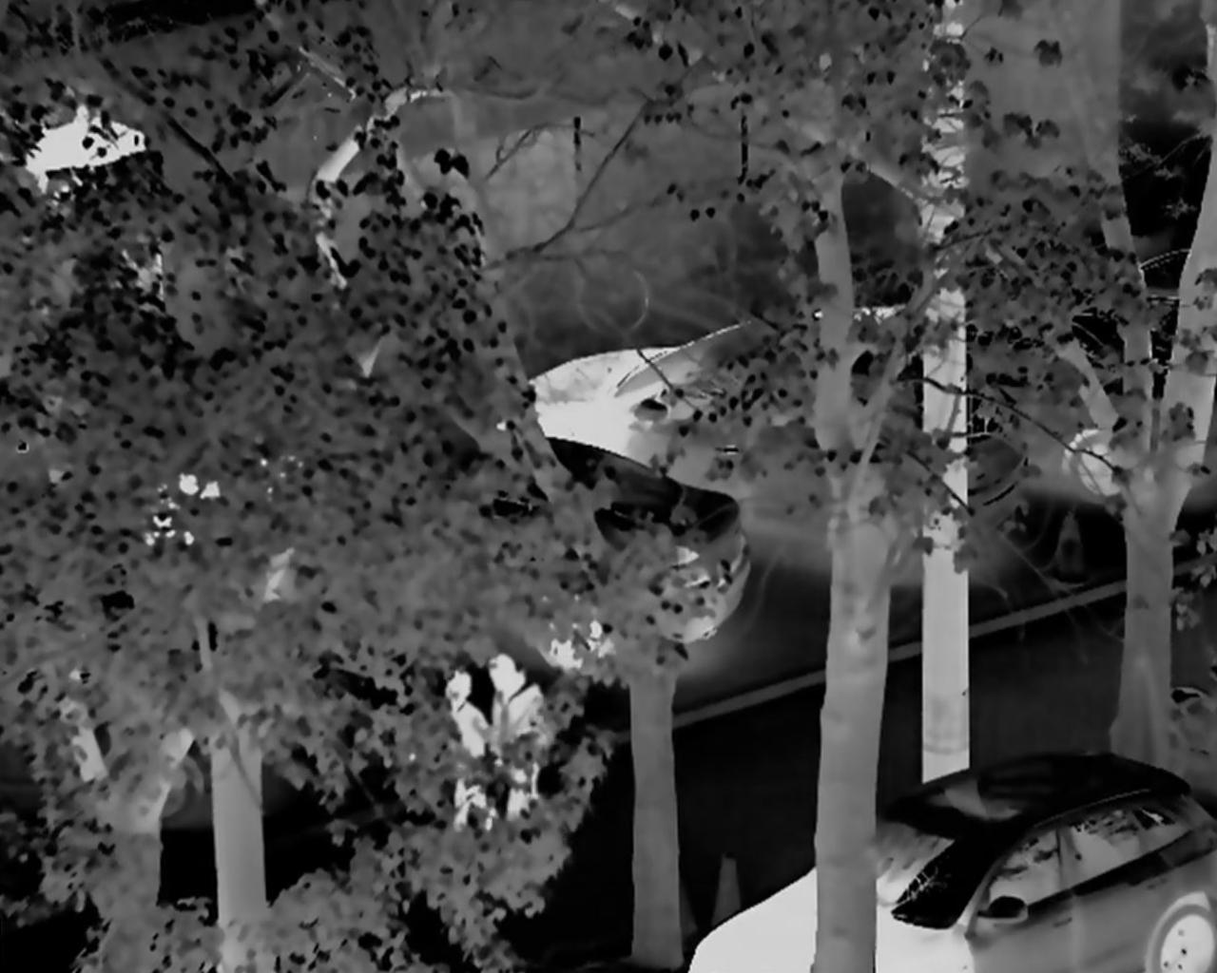person: (489, 651, 549, 865), (434, 662, 498, 843)
